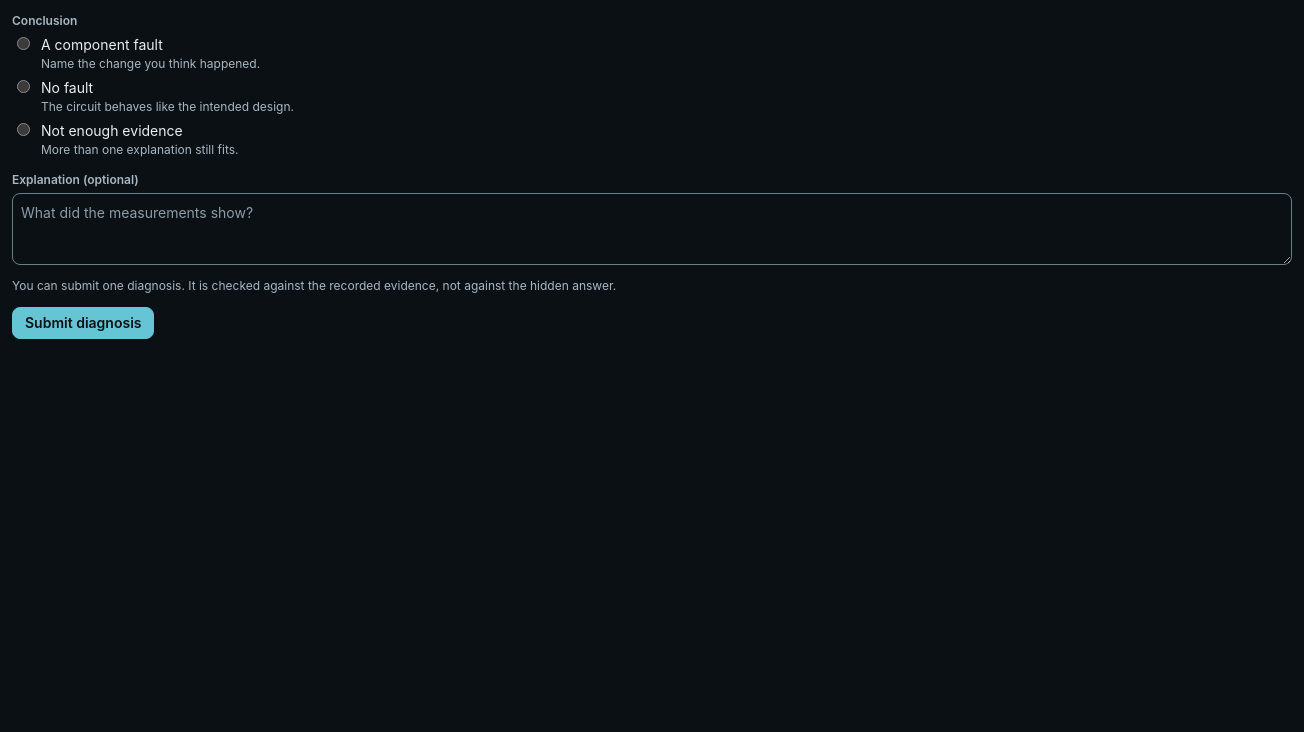
it: DiagnosisForm › blocks an uncited fault diagnosis and focuses the first invalid field
Click the radio button labelled "A component fault Name the change you think happened." at (24, 44), box [17,37,30,50]
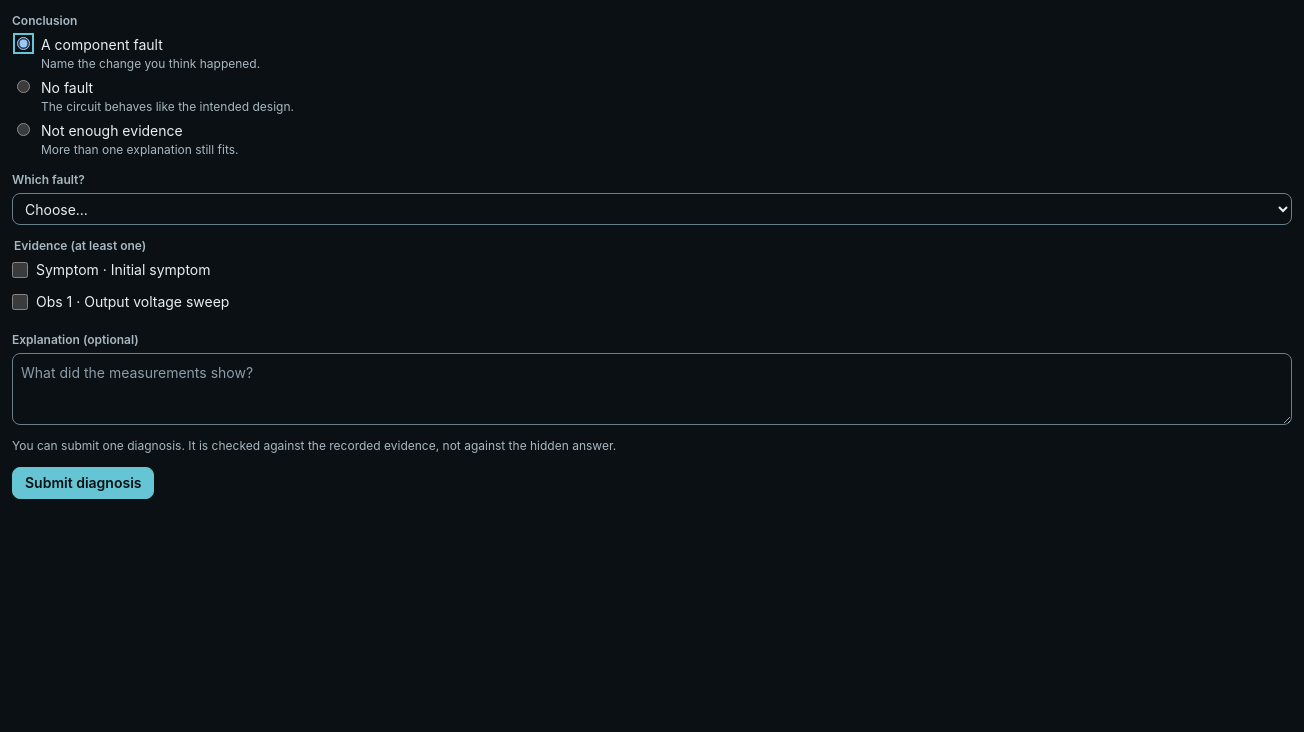
Click the button "Submit diagnosis" at (83, 483), box [12,467,154,499]
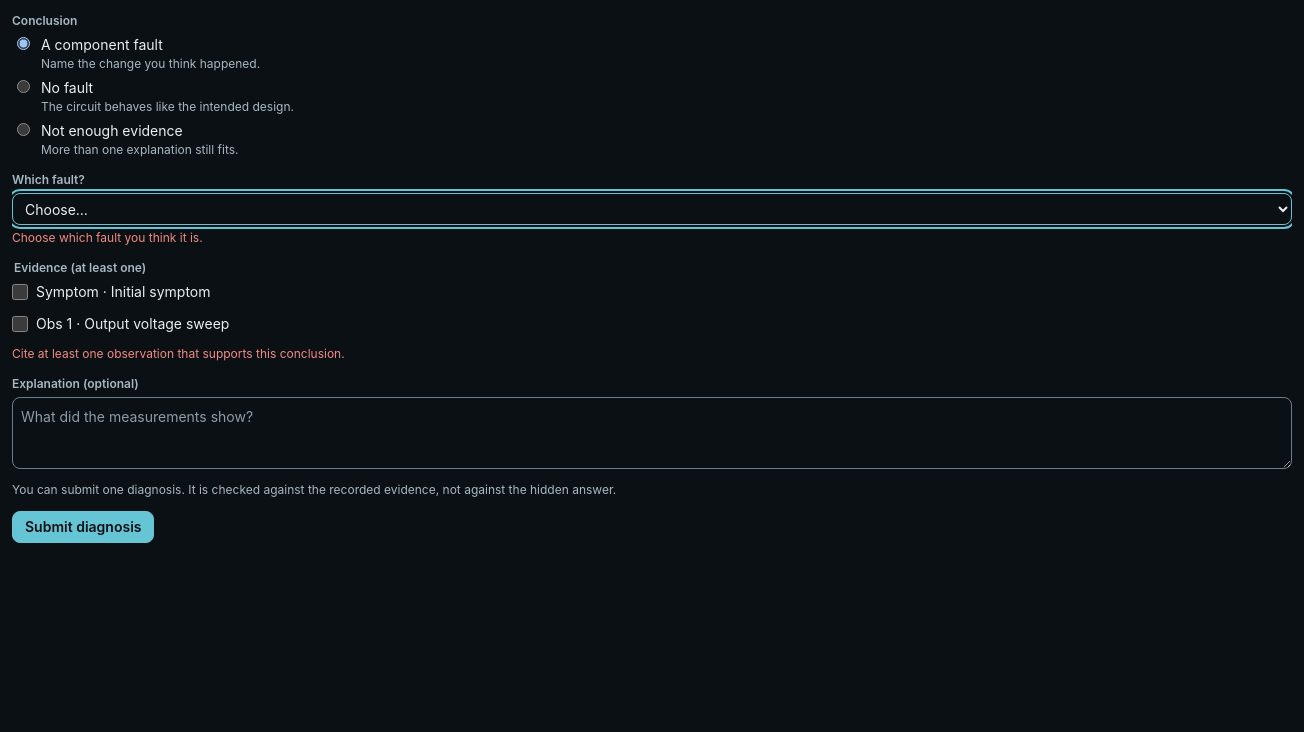
Result: the text "Choose which fault you think it is." is shown at [12,230,203,245]
Result: the text "Cite at least one observation that supports this conclusion." is shown at [12,346,345,361]
